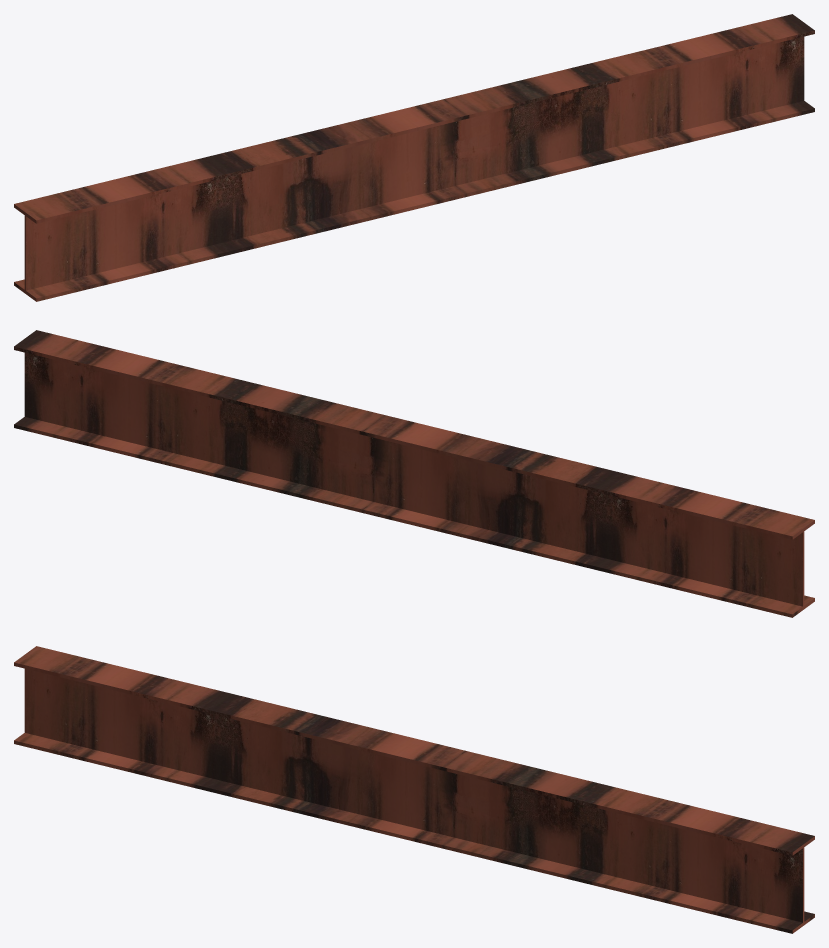
File: kiris_I_2m.gltf
3 views of the same model, one above another, from view 1: azimuth 30°, elevation 25°; view 2: azimuth 150°, elevation 25°; view 3: azimuth 330°, elevation 25° (orthographic).
Parts seen in each view (by area): view 1: kiris_I_2m; view 2: kiris_I_2m; view 3: kiris_I_2m.
Boxes of the visible parts, left/top/right/bottom form: kiris_I_2m: left=14, top=14, right=814, bottom=301; kiris_I_2m: left=14, top=330, right=814, bottom=617; kiris_I_2m: left=14, top=646, right=814, bottom=933.
Size of what is drawn, in the model's own units: 2 by 0.2 by 0.1.
1 material, 1 textured.
